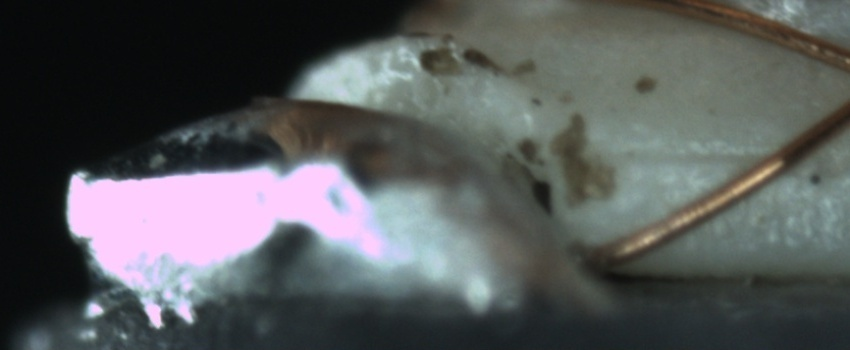DL: (614, 121, 843, 193)
